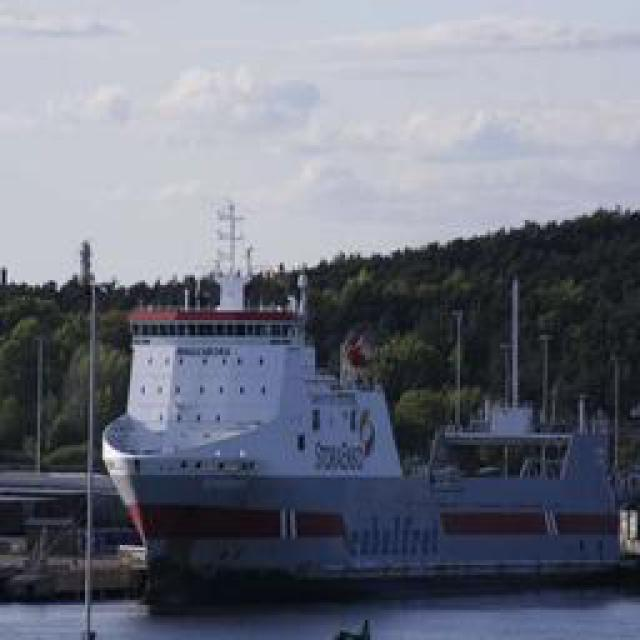Ship: (106, 306, 639, 599)
